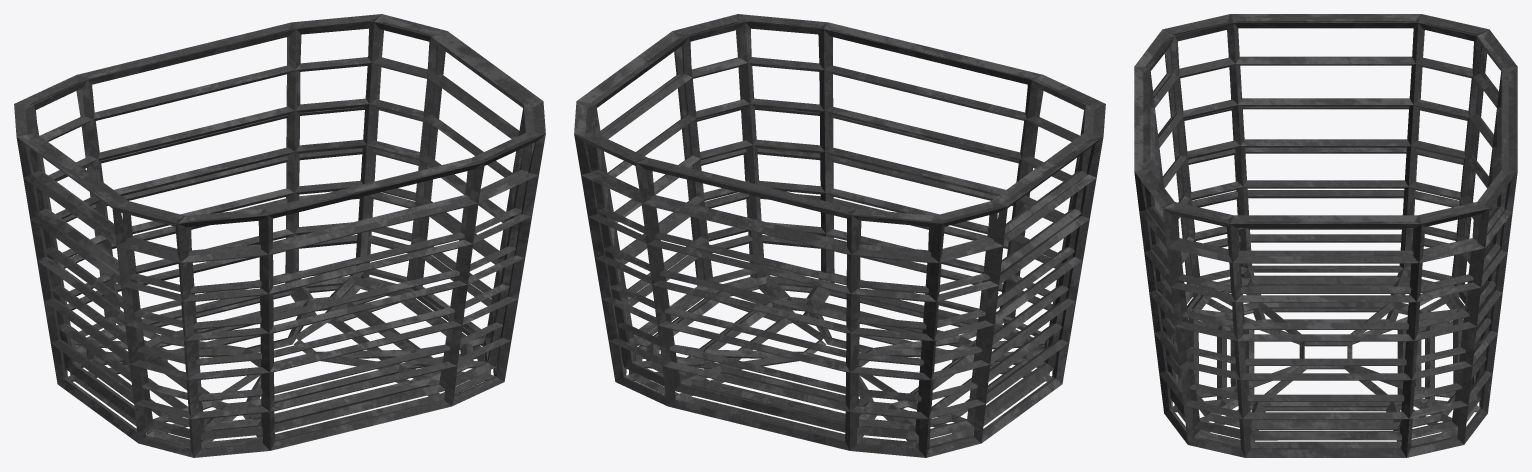
The picture shows the model from 3 angles, left to right: view 1: azimuth 30°, elevation 25°; view 2: azimuth 150°, elevation 25°; view 3: azimuth 270°, elevation 25°; orthographic projection.
Parts seen in each view (by area): view 1: RK; view 2: RK; view 3: RK.
Part boxes in pixels (x1=…): RK: x1=14, y1=14, x2=545, y2=457; RK: x1=574, y1=14, x2=1105, y2=457; RK: x1=1134, y1=14, x2=1517, y2=457.
Size of the model in its own units: 1.17 by 0.9007 by 0.6488.
